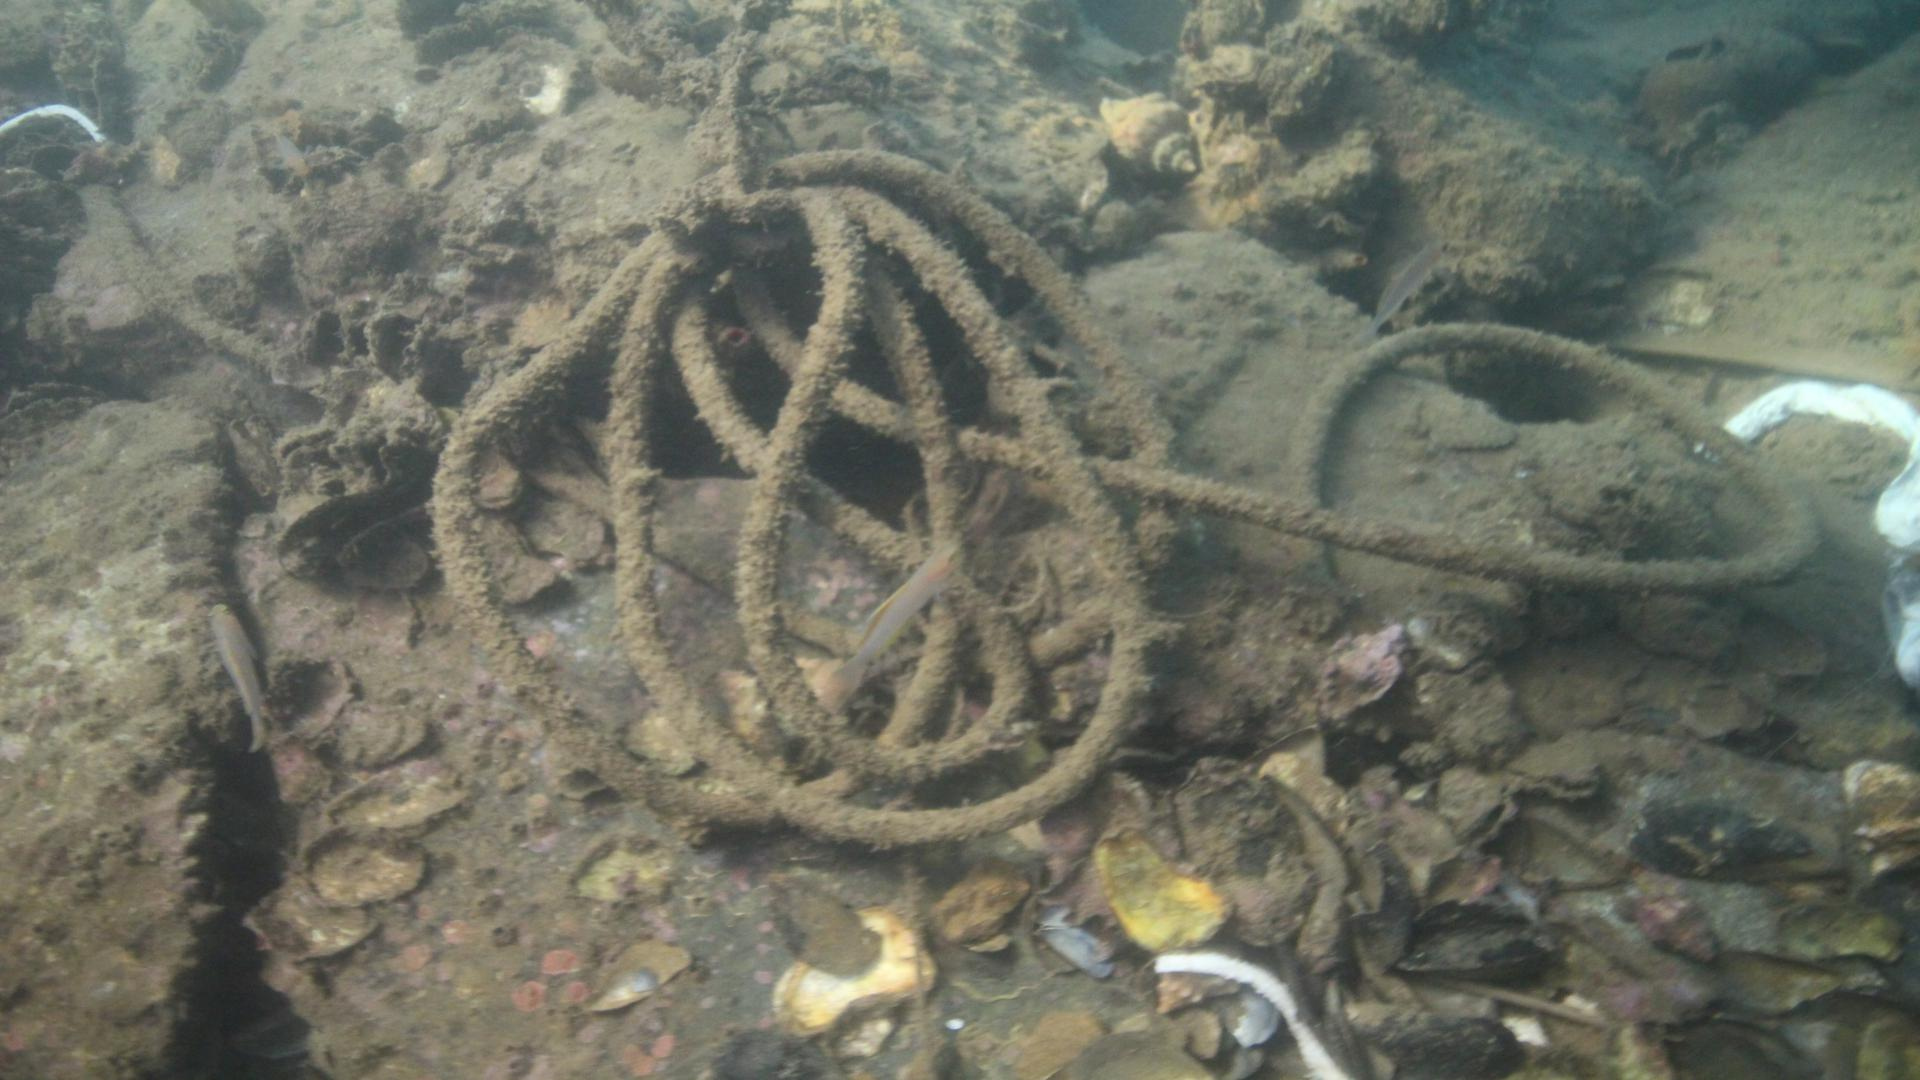bundle of ropes: (66, 15, 1830, 852)
